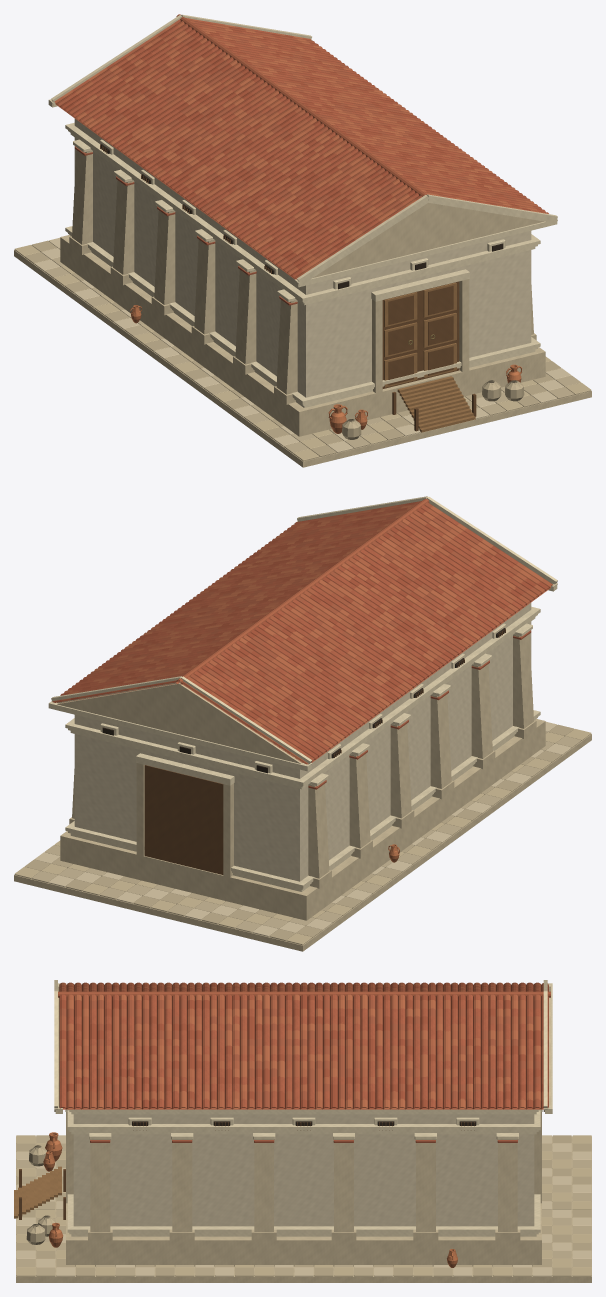
The model's file is horreum.glb.
The picture shows the model from 3 angles, top to bottom: view 1: azimuth 30°, elevation 25°; view 2: azimuth 150°, elevation 25°; view 3: azimuth 270°, elevation 25°; orthographic projection.
Visible parts, largest first — view 1: Travertine.002, Limewash.002, Tile_0.002, Limestone_trim.002, Travertine.001, Tile_1.002, Tile_3.002, Tile_2.002, Tile_4.002, Tile_5.002, Limestone_trim.001, Oak.002 (+13 smaller); view 2: Travertine.002, Limewash.002, Tile_0.002, Travertine.001, Tile_1.002, Limestone_trim.002, Tile_3.002, Tile_2.002, Limestone_trim.001, Tile_4.002, Tile_5.002, Oak.002 (+10 smaller); view 3: Limewash.002, Limewash.001, Travertine.002, Tile_0.002, Travertine.001, Limestone_trim.002, Tile_2.002, Limestone_trim.001, Tile_1.002, Tile_4.002, Tile_3.002, Tile_5.002 (+12 smaller).
Boxes of the visible parts, <box> form: Travertine.002: <box>14,150,590,465</box>; Limewash.002: <box>75,119,530,397</box>; Tile_0.002: <box>65,18,545,261</box>; Limestone_trim.002: <box>49,14,557,407</box>; Travertine.001: <box>14,235,591,467</box>; Tile_1.002: <box>54,14,548,279</box>; Tile_3.002: <box>63,24,539,272</box>; Tile_2.002: <box>55,21,541,305</box>; Tile_4.002: <box>60,26,530,278</box>; Tile_5.002: <box>75,21,538,275</box>; Limestone_trim.001: <box>48,99,557,407</box>; Oak.002: <box>100,145,475,430</box>; Travertine.002: <box>15,634,591,949</box>; Limewash.002: <box>75,603,530,881</box>; Tile_0.002: <box>52,501,526,754</box>; Travertine.001: <box>14,719,591,951</box>; Tile_1.002: <box>78,498,552,764</box>; Limestone_trim.002: <box>49,496,557,891</box>; Tile_3.002: <box>61,505,543,759</box>; Tile_2.002: <box>61,502,550,789</box>; Limestone_trim.001: <box>48,521,557,891</box>; Tile_4.002: <box>60,502,549,759</box>; Tile_5.002: <box>99,504,545,748</box>; Oak.002: <box>145,629,505,874</box>; Limewash.002: <box>74,1114,533,1226</box>; Limewash.001: <box>73,1114,534,1226</box>; Travertine.002: <box>17,986,590,1281</box>; Tile_0.002: <box>59,982,548,1109</box>; Travertine.001: <box>16,1112,591,1282</box>; Limestone_trim.002: <box>54,980,551,1236</box>; Tile_2.002: <box>59,982,548,1142</box>; Limestone_trim.001: <box>55,983,552,1236</box>; Tile_1.002: <box>58,982,550,1109</box>; Tile_4.002: <box>59,982,548,1109</box>; Tile_3.002: <box>59,982,548,1109</box>; Tile_5.002: <box>59,982,548,1109</box>.
Bounding box in the file's own units: 15 × 11.04 × 26.1.
18 materials, 7 textured.
